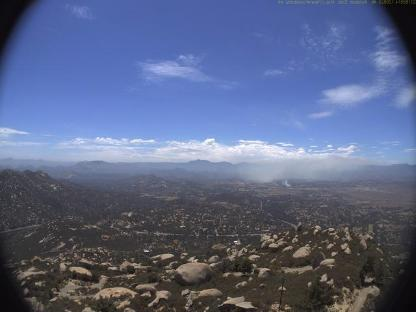smoke: (234, 147, 370, 189)
